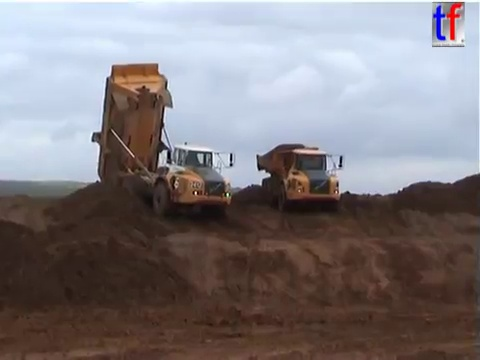truck: (90, 61, 236, 221), (254, 142, 345, 215)
